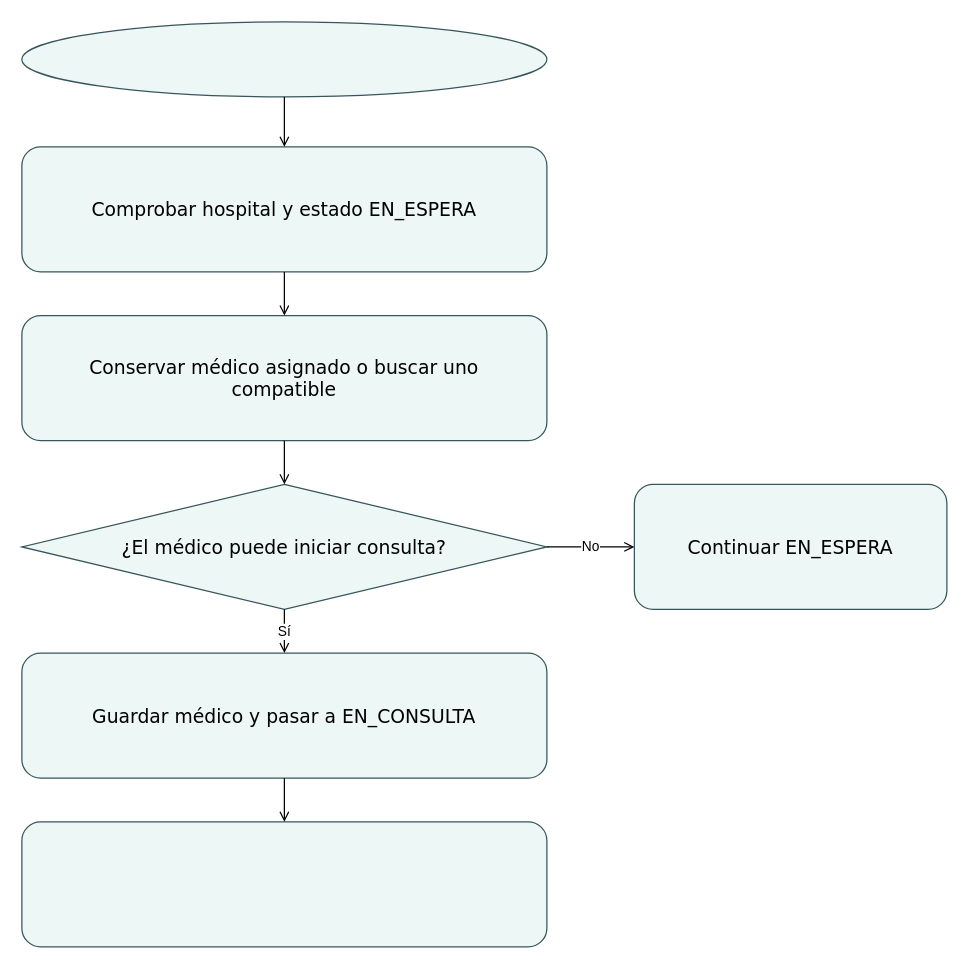
Image size: 969x969. Some labels were removed from this diagram. Here are the shapes that lost their labels. From the top down, the centre of each, then its label:
At [284,59]: "Solicitar consulta".
At [284,884]: "Consultar estado y tratamiento".
